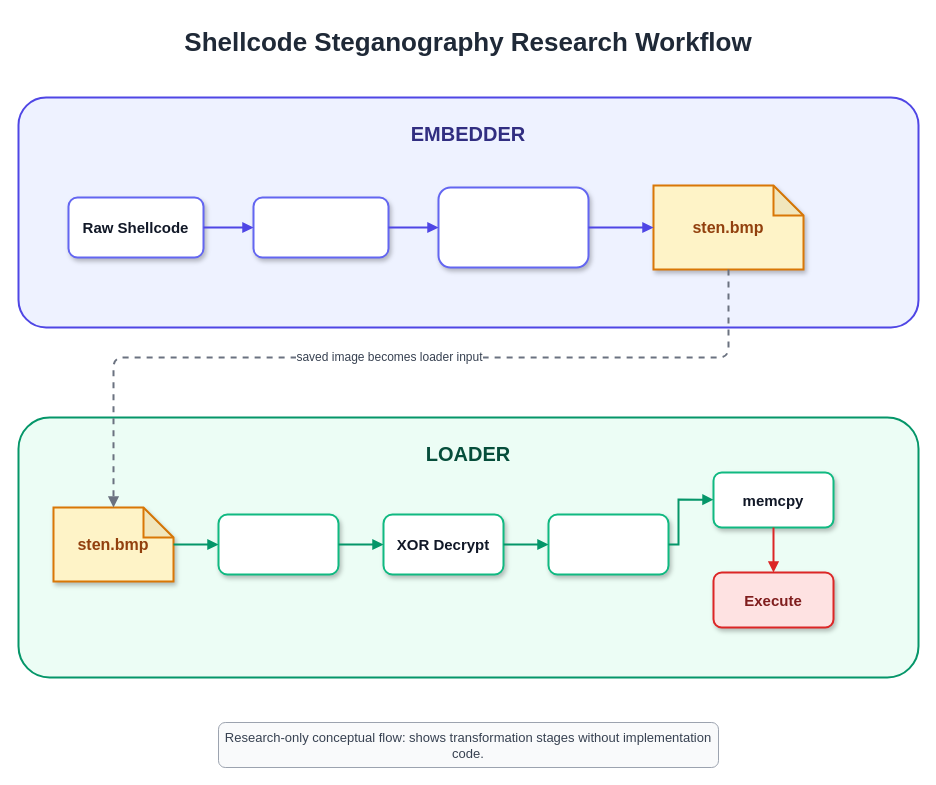
This 936x785 diagram has some shape labels left out. Each missing label, with the centre of its shape:
"Embed in BMP LSB steganography" belongs at (x=514, y=228).
"Extract LSB" belongs at (x=279, y=545).
"VirtualAlloc" belongs at (x=609, y=545).
"XOR Encrypt" belongs at (x=321, y=228).
